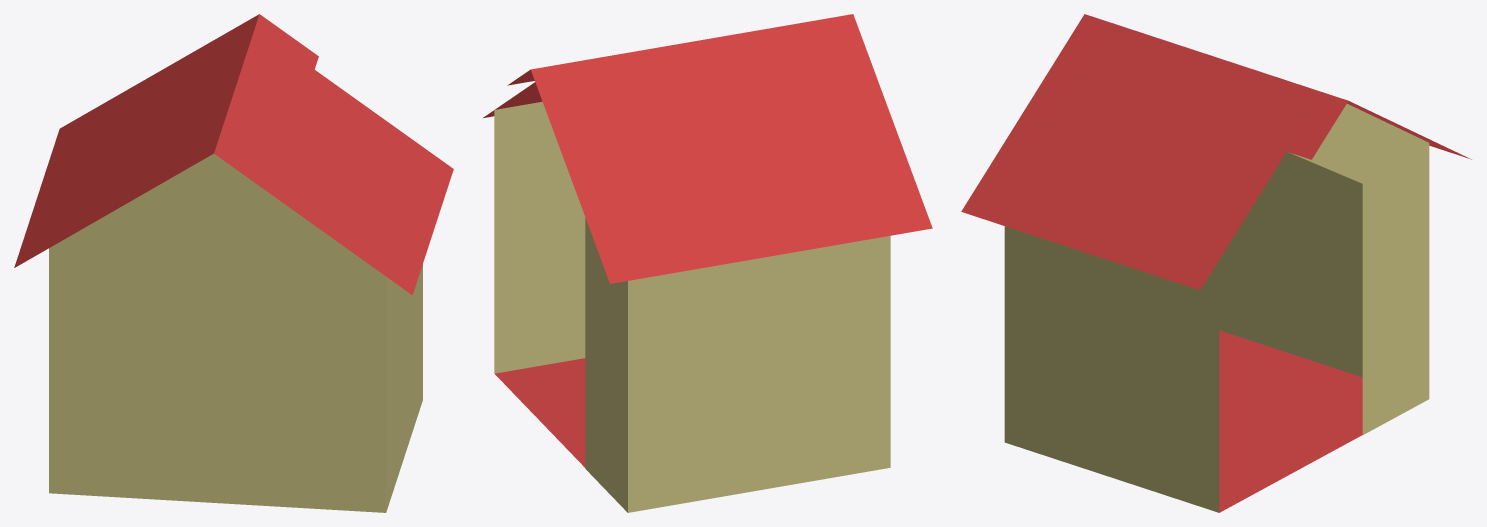
3 renders of one model, left to right at view 1: azimuth 30°, elevation 25°; view 2: azimuth 150°, elevation 25°; view 3: azimuth 270°, elevation 25°, orthographic. The views are drawn at different scales.
Parts seen in each view (by area): view 1: group_5, group_3, group_4; view 2: group_5, group_3, group_6; view 3: group_5, group_3, group_6, group_4.
Boxes of the visible parts, x1,y1,x2,y2 form: group_5: (49, 154, 422, 512); group_3: (14, 14, 453, 294); group_4: (240, 19, 451, 293); group_5: (494, 101, 890, 512); group_3: (483, 14, 932, 283); group_6: (495, 358, 585, 467); group_5: (1004, 104, 1429, 512); group_3: (961, 14, 1471, 289); group_6: (1219, 330, 1362, 512); group_4: (961, 22, 1345, 286).
Bounding box in the file's own units: 16.23 × 16.46 × 12.91.
